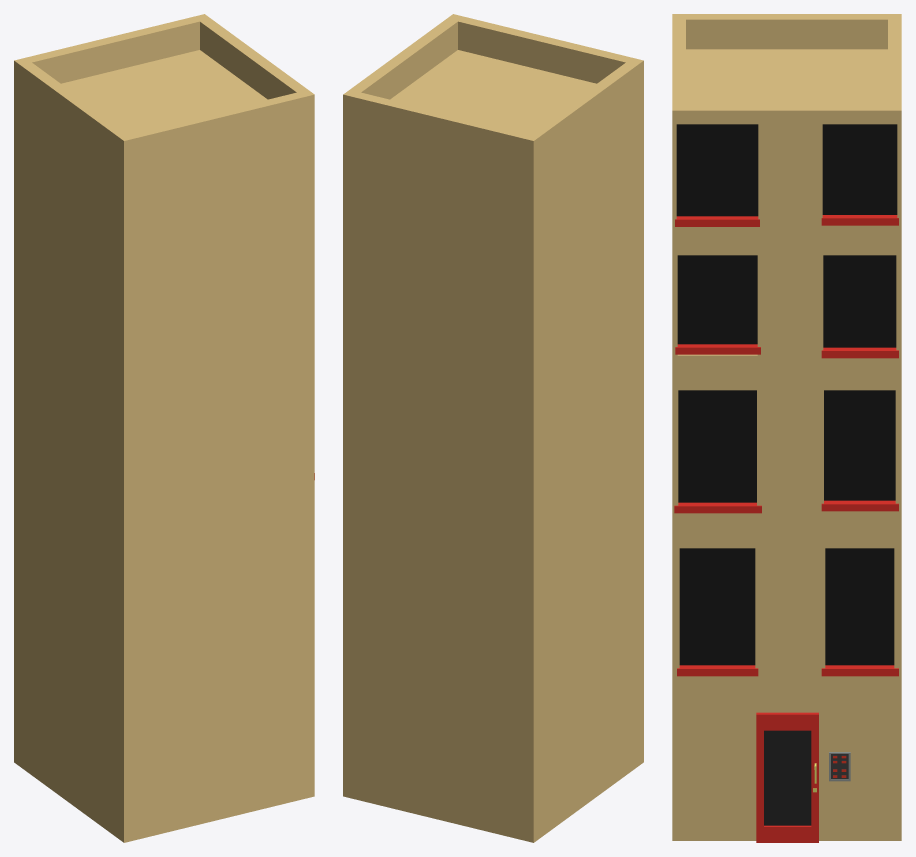
Rendered from predio1.fbx.
The picture shows the model from 3 angles, left to right: view 1: azimuth 30°, elevation 25°; view 2: azimuth 150°, elevation 25°; view 3: azimuth 270°, elevation 25°; orthographic projection. The views are drawn at different scales.
Parts seen in each view (by area): view 1: Cube; view 2: Cube; view 3: Cube, Cube.001, Cube.005, Cube.002, Cube.006, Cube.007, Cube.008, Cube.004, Cube.003, Cube.009, Cube.010.
Part boxes in pixels (<box>): Cube: <box>14,14,314,842</box>; Cube: <box>343,14,643,842</box>; Cube: <box>672,14,901,840</box>; Cube.001: <box>756,712,818,842</box>; Cube.005: <box>674,502,761,513</box>; Cube.002: <box>677,665,758,676</box>; Cube.006: <box>675,344,760,354</box>; Cube.007: <box>675,216,759,226</box>; Cube.008: <box>821,347,898,358</box>; Cube.004: <box>821,500,898,511</box>; Cube.003: <box>821,665,898,676</box>; Cube.009: <box>821,215,898,225</box>; Cube.010: <box>814,752,850,783</box>.
Bounding box in the file's own units: 6633 × 22443 × 6379.
